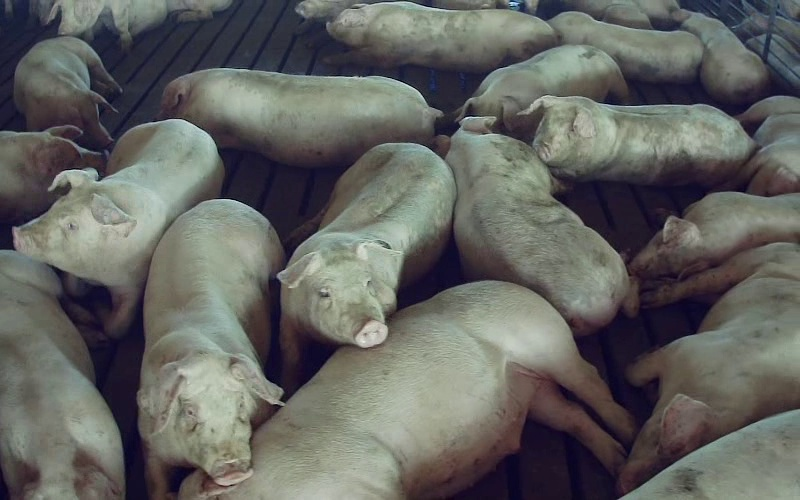pig: (180, 282, 634, 499), (13, 119, 224, 337), (619, 243, 799, 492), (277, 143, 455, 391), (435, 117, 636, 335), (137, 201, 283, 499), (159, 68, 441, 166), (524, 96, 755, 187), (326, 2, 557, 72), (628, 192, 799, 279), (459, 45, 627, 131), (14, 36, 121, 149), (549, 11, 703, 83), (0, 126, 105, 223), (672, 9, 769, 104), (737, 96, 799, 195)
